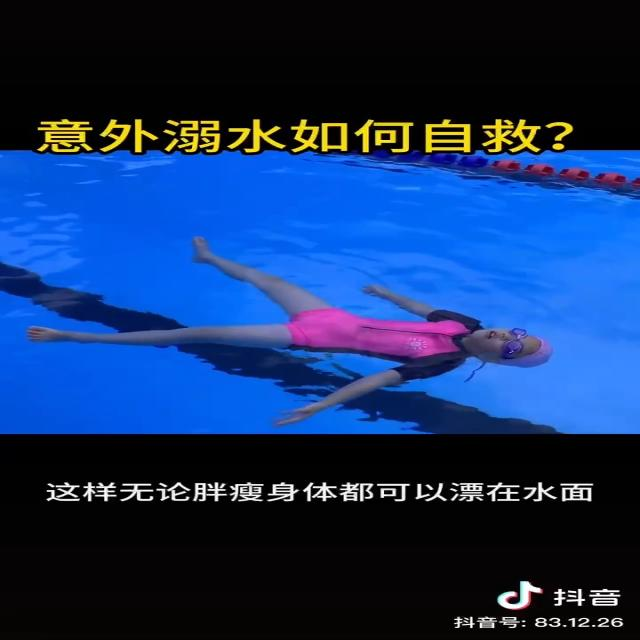Drowning: (25, 234, 551, 423)
